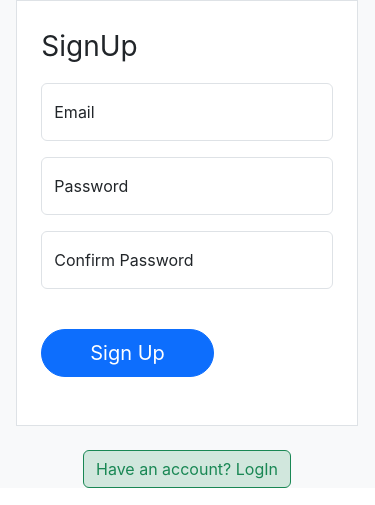
Test: auth render tests › renders "Forgot password ?" as a text after clicking already user
Click the button "Have an account? LogIn" at [187, 469], box [83, 450, 291, 488]
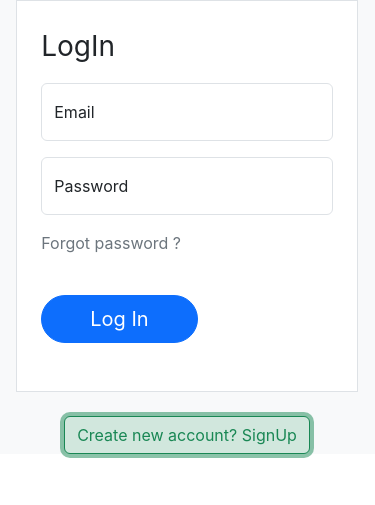
Result: the text "Forgot password ?" is shown at [41, 233, 181, 253]
